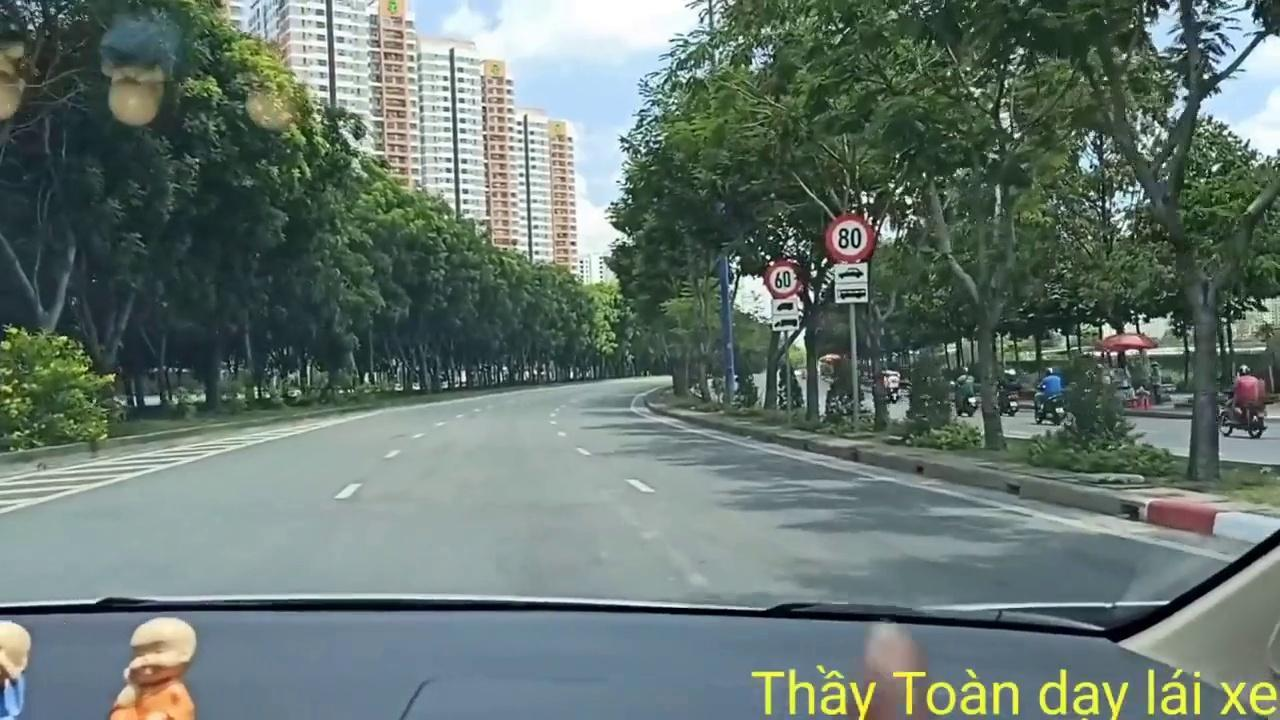Biển phụ: (833, 266, 868, 304), (769, 298, 798, 331)
GIơi hạn tốc độ 60Km/h: (764, 258, 800, 297)
Giới hạn tốc độ 80Km/h: (824, 212, 875, 263)
